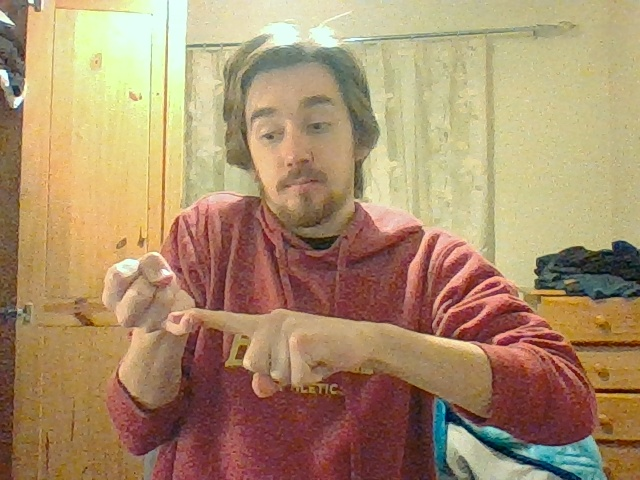step: (102, 252, 317, 398)
